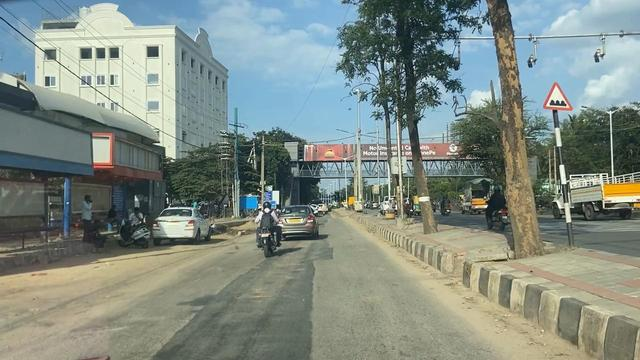LMV: (160, 206, 208, 245), (254, 195, 279, 259), (279, 209, 318, 239)
UnsurfacedRoad: (145, 297, 349, 360), (183, 256, 368, 288)
